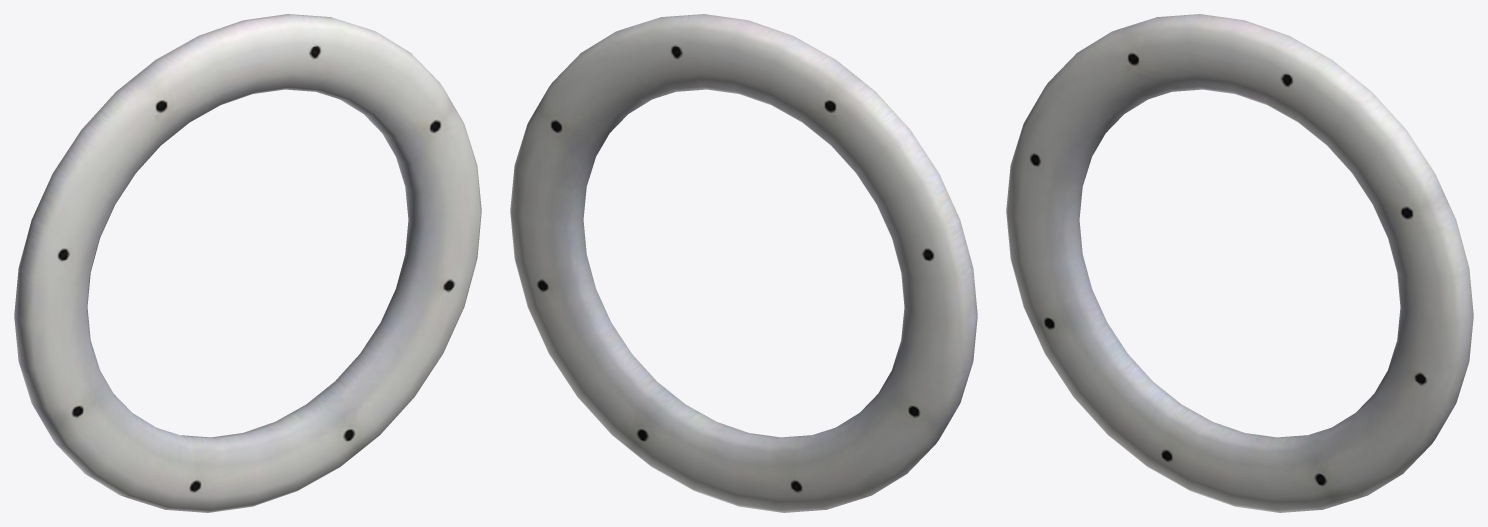
File: Sonderringleuchte_1400mm.obj
3 views of the same model, side by side, from view 1: azimuth 30°, elevation 25°; view 2: azimuth 150°, elevation 25°; view 3: azimuth 330°, elevation 25° (orthographic).
Visible parts, largest first — view 1: Ringleuchte_BezierCurve.001; view 2: Ringleuchte_BezierCurve.001; view 3: Ringleuchte_BezierCurve.001.
Part boxes in pixels (x1,y1,x2,y2): Ringleuchte_BezierCurve.001: (14, 14, 481, 512); Ringleuchte_BezierCurve.001: (510, 14, 977, 512); Ringleuchte_BezierCurve.001: (1006, 14, 1473, 512).
Size of the model in its own units: 1.4 by 1.4 by 0.1099.
1 material, 1 textured.
